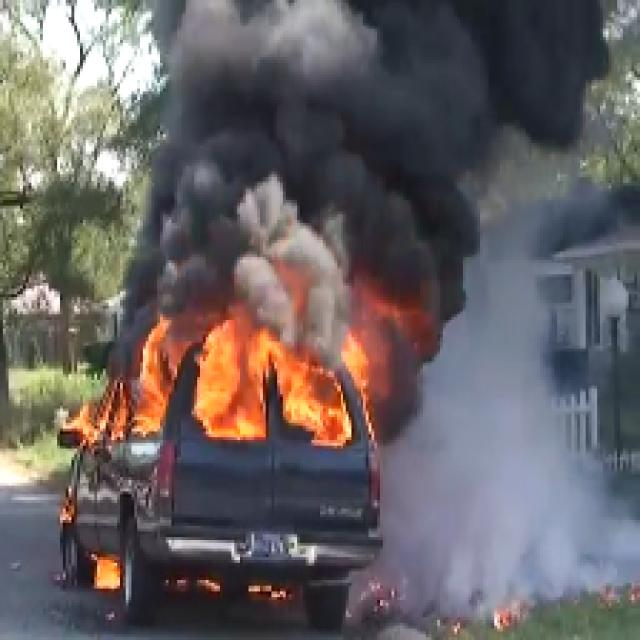fire: (154, 335, 352, 440)
smoke: (162, 18, 447, 327)
